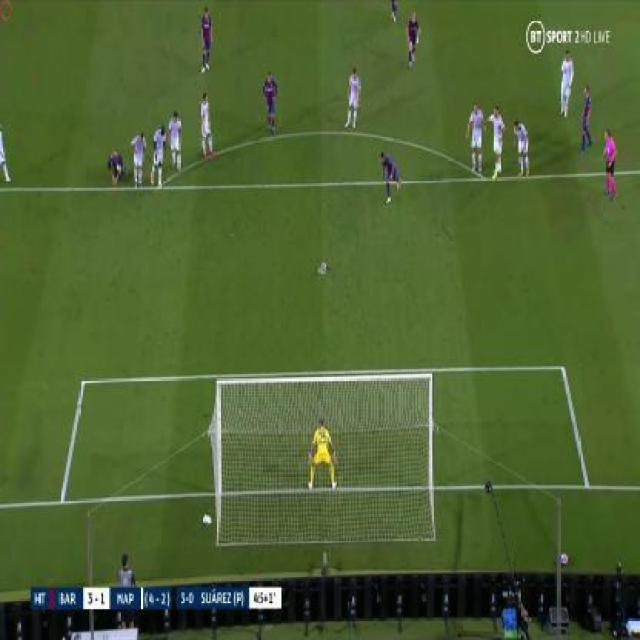ball: (317, 259, 328, 276)
player: (305, 415, 338, 492), (597, 125, 619, 199), (466, 98, 486, 175), (486, 103, 506, 177), (260, 67, 279, 136), (558, 45, 575, 119), (576, 86, 595, 152), (148, 122, 167, 188), (376, 151, 401, 200), (343, 66, 362, 129), (198, 91, 215, 160), (512, 116, 531, 176), (197, 4, 213, 73), (128, 130, 147, 187), (404, 9, 421, 68), (168, 108, 182, 171), (0, 123, 14, 185), (106, 146, 126, 183)
